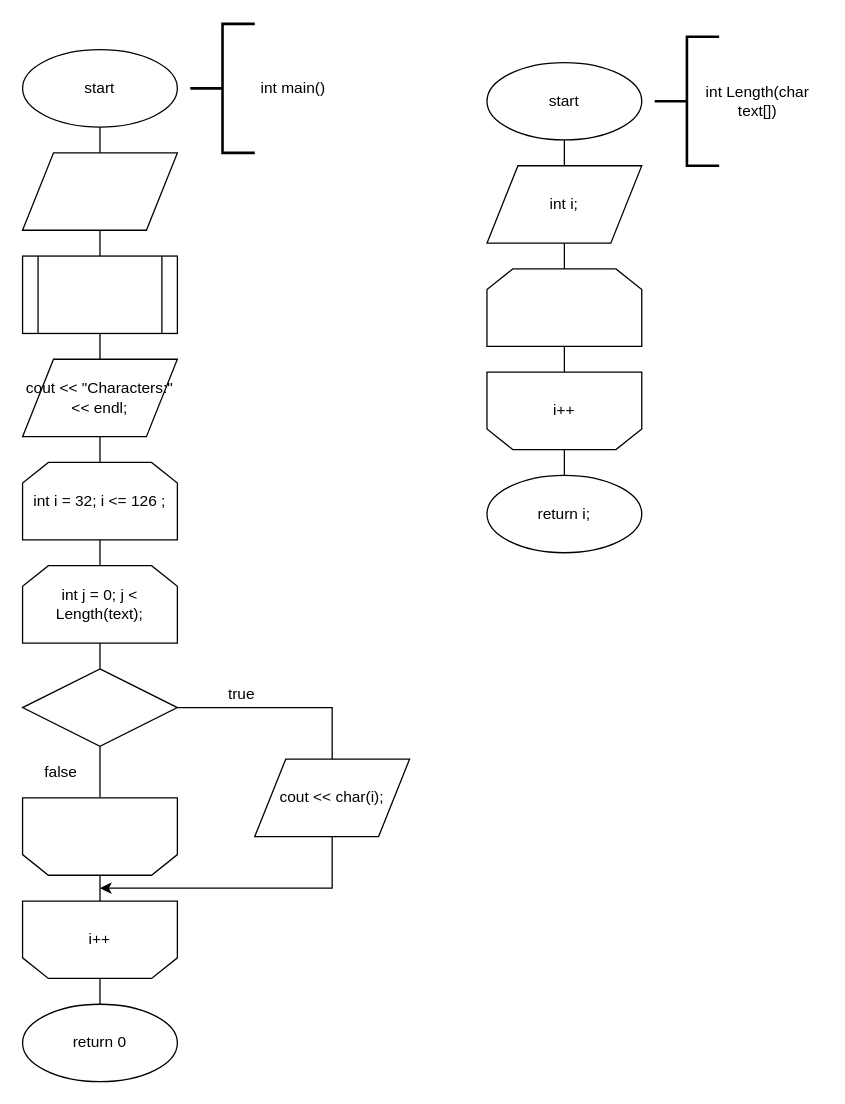
The diagram is 845 pixels wide and 1104 high, and some of its shapes have lost their labels. The centre of each missing label's shape, as x and y in pixels:
char text[80]; cout << "Text:" << endl;: the point at 99,191
gets(text);: the point at 99,294
i = 0; text[i] != '\0';: the point at 564,307
j++: the point at 99,836
text[j] == char(i): the point at 99,707
